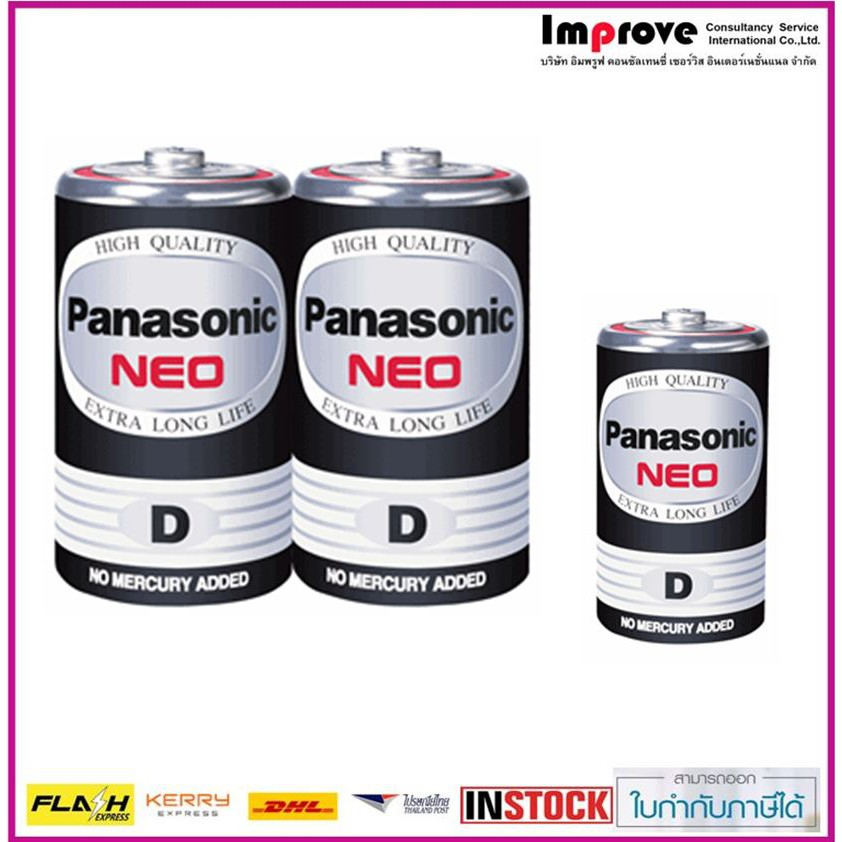Battery: (49, 144, 296, 610), (290, 143, 535, 608), (584, 301, 776, 651)
